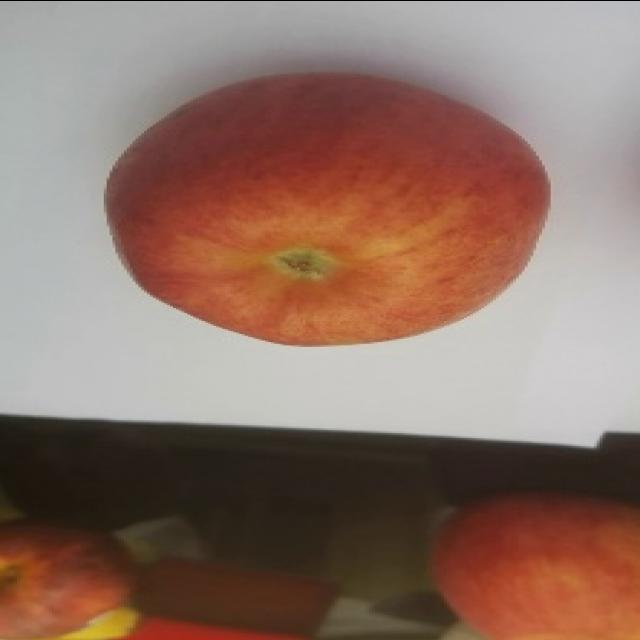Apple: (99, 77, 550, 352), (420, 489, 640, 640), (0, 522, 152, 638)
